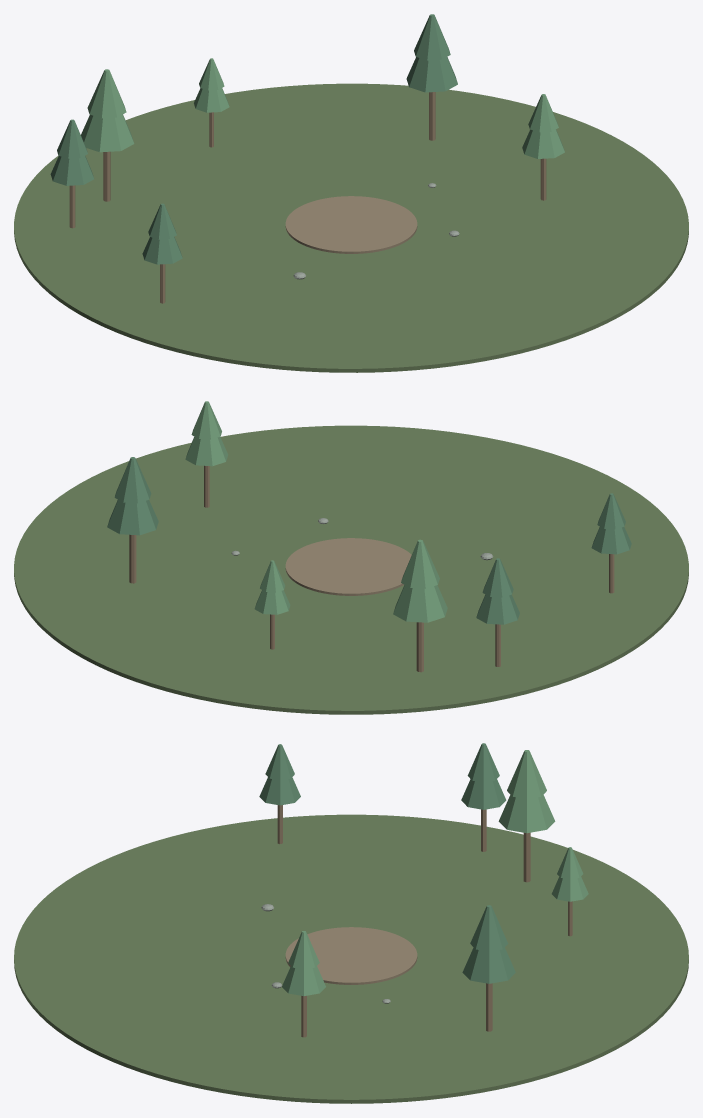
Rendered from outdoor_scene.glb.
3 views of the same model, one above another, from view 1: azimuth 30°, elevation 25°; view 2: azimuth 150°, elevation 25°; view 3: azimuth 270°, elevation 25° (orthographic).
Visible parts, largest first — view 1: outdoor_ground_base, central_open_soil, tree_left_far_crown_low, tree_right_back_crown_low, tree_left_far_crown_high, tree_right_back_crown_high, tree_left_back_crown_low, tree_right_mid_crown_low, tree_left_front_crown_low, tree_left_back_crown_high, tree_right_mid_crown_high, tree_mid_back_crown_low (+1 smaller); view 2: outdoor_ground_base, central_open_soil, tree_left_far_crown_low, tree_right_back_crown_low, tree_left_far_crown_high, tree_right_back_crown_high, tree_left_back_crown_low, tree_right_mid_crown_low, tree_left_front_crown_low, tree_left_back_crown_high, tree_right_mid_crown_high, tree_mid_back_crown_low (+2 smaller); view 3: outdoor_ground_base, central_open_soil, tree_left_far_crown_low, tree_right_back_crown_low, tree_left_far_crown_high, tree_right_back_crown_high, tree_left_back_crown_low, tree_right_mid_crown_low, tree_left_front_crown_low, tree_left_back_crown_high, tree_right_mid_crown_high, tree_mid_back_crown_low (+1 smaller).
Boxes of the visible parts, bbox=[...] form: outdoor_ground_base: bbox=[14, 83, 688, 372]; central_open_soil: bbox=[285, 196, 417, 253]; tree_left_far_crown_low: bbox=[81, 114, 134, 152]; tree_right_back_crown_low: bbox=[406, 57, 457, 92]; tree_left_far_crown_high: bbox=[87, 69, 126, 118]; tree_right_back_crown_high: bbox=[414, 14, 450, 60]; tree_left_back_crown_low: bbox=[50, 156, 94, 185]; tree_right_mid_crown_low: bbox=[522, 129, 564, 158]; tree_left_front_crown_low: bbox=[142, 237, 182, 264]; tree_left_back_crown_high: bbox=[57, 119, 87, 158]; tree_right_mid_crown_high: bbox=[528, 94, 558, 132]; tree_mid_back_crown_low: bbox=[194, 88, 229, 112]; outdoor_ground_base: bbox=[14, 425, 688, 714]; central_open_soil: bbox=[285, 538, 411, 595]; tree_left_far_crown_low: bbox=[393, 585, 447, 622]; tree_right_back_crown_low: bbox=[107, 500, 158, 535]; tree_left_far_crown_high: bbox=[401, 539, 439, 588]; tree_right_back_crown_high: bbox=[114, 457, 151, 503]; tree_left_back_crown_low: bbox=[476, 594, 519, 624]; tree_right_mid_crown_low: bbox=[185, 436, 228, 466]; tree_left_front_crown_low: bbox=[591, 526, 631, 554]; tree_left_back_crown_high: bbox=[482, 558, 513, 597]; tree_right_mid_crown_high: bbox=[191, 401, 221, 439]; tree_mid_back_crown_low: bbox=[254, 590, 290, 614]; outdoor_ground_base: bbox=[14, 814, 688, 1103]; central_open_soil: bbox=[285, 927, 417, 984]; tree_left_far_crown_low: bbox=[498, 795, 555, 833]; tree_right_back_crown_low: bbox=[462, 947, 515, 983]; tree_left_far_crown_high: bbox=[507, 750, 546, 799]; tree_right_back_crown_high: bbox=[470, 905, 508, 951]; tree_left_back_crown_low: bbox=[461, 779, 506, 809]; tree_right_mid_crown_low: bbox=[282, 966, 325, 996]; tree_left_front_crown_low: bbox=[259, 777, 300, 805]; tree_left_back_crown_high: bbox=[467, 743, 499, 782]; tree_right_mid_crown_high: bbox=[288, 931, 319, 969]; tree_mid_back_crown_low: bbox=[551, 877, 588, 901].
Size of the model in its own units: 12.5 by 2.73 by 12.5.
